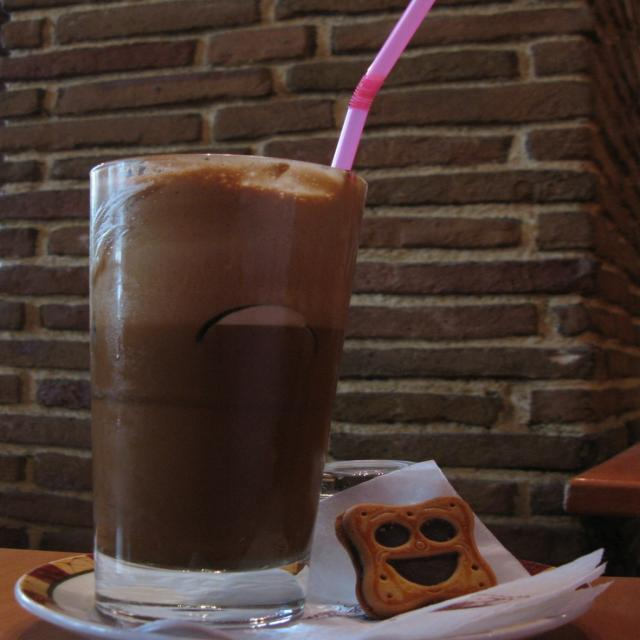Coffee: (89, 322, 353, 577)
